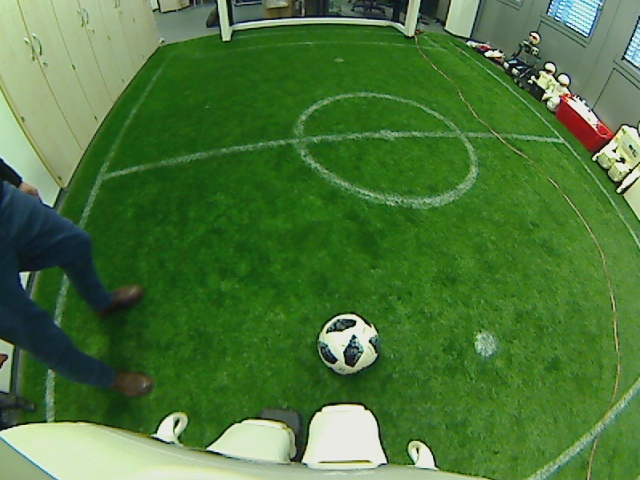ball: (315, 309, 380, 376)
